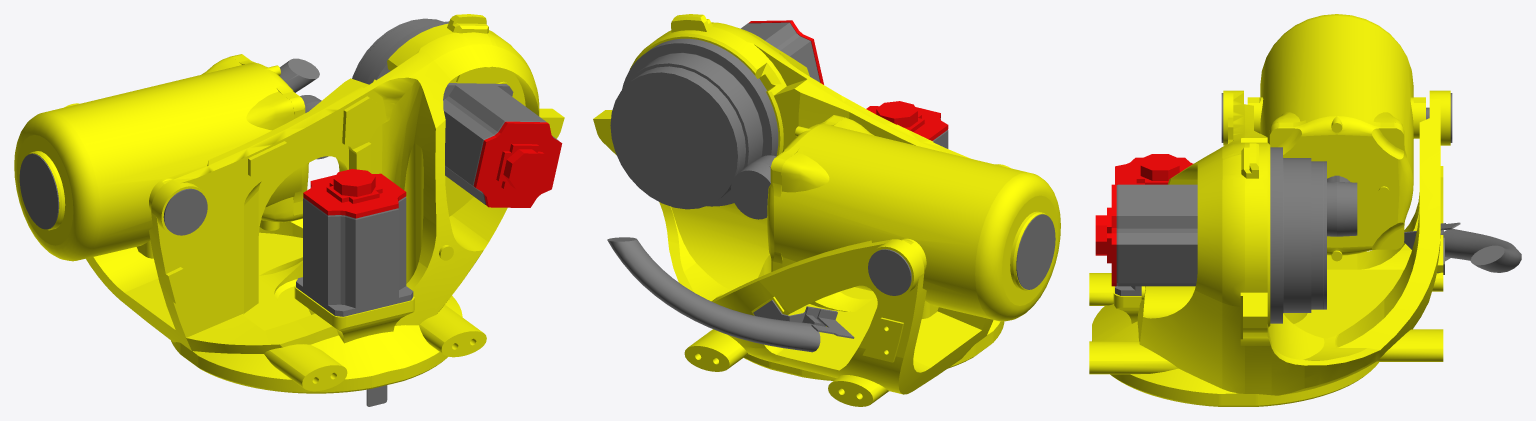
3 renders of one model, left to right at view 1: azimuth 30°, elevation 25°; view 2: azimuth 150°, elevation 25°; view 3: azimuth 270°, elevation 25°, orthographic.
Parts seen in each view (by area): view 1: Mesh_0; view 2: Mesh_0; view 3: Mesh_0.
Part boxes in pixels (x1,y1,x2,y2): Mesh_0: [14, 14, 564, 406]; Mesh_0: [593, 14, 1060, 406]; Mesh_0: [1089, 14, 1521, 406].
Bounding box in the file's own units: 1.07 × 0.8294 × 0.6423.
